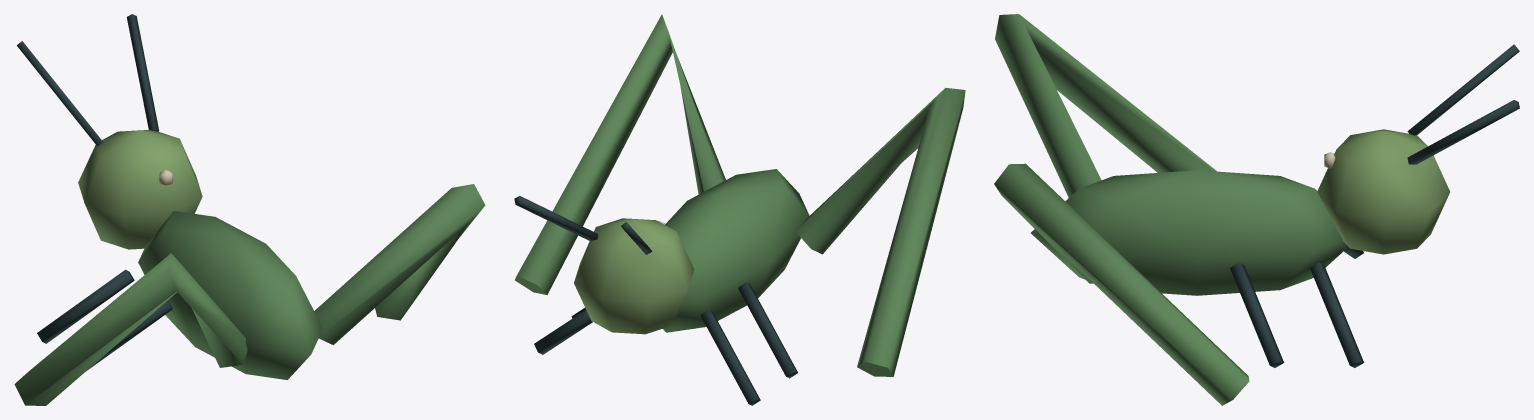
File: insect_grasshopper_low.glb
3 views of the same model, side by side, from view 1: azimuth 30°, elevation 25°; view 2: azimuth 150°, elevation 25°; view 3: azimuth 270°, elevation 25° (orthographic). The views are drawn at different scales.
Size of the model in its own units: 0.1748 by 0.1002 by 0.1973.
